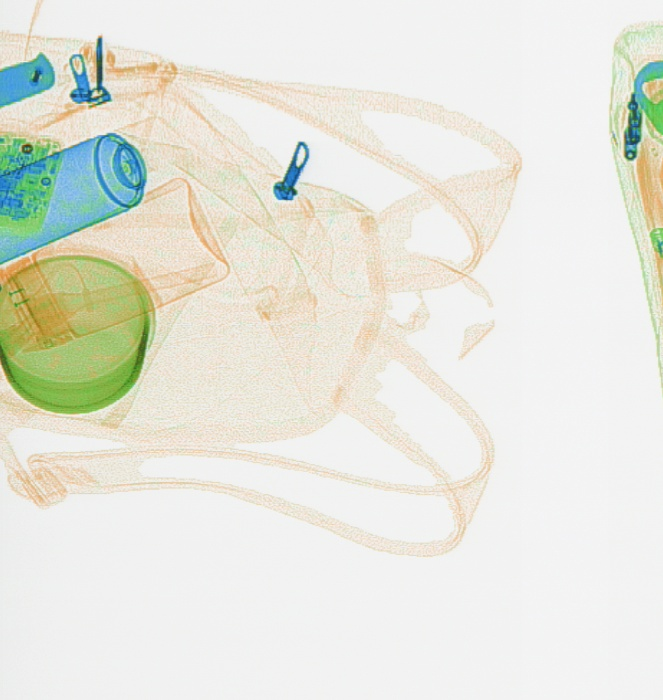pressure: (2, 117, 190, 264)
